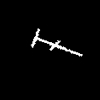double_crochet: (32, 29, 81, 55)
